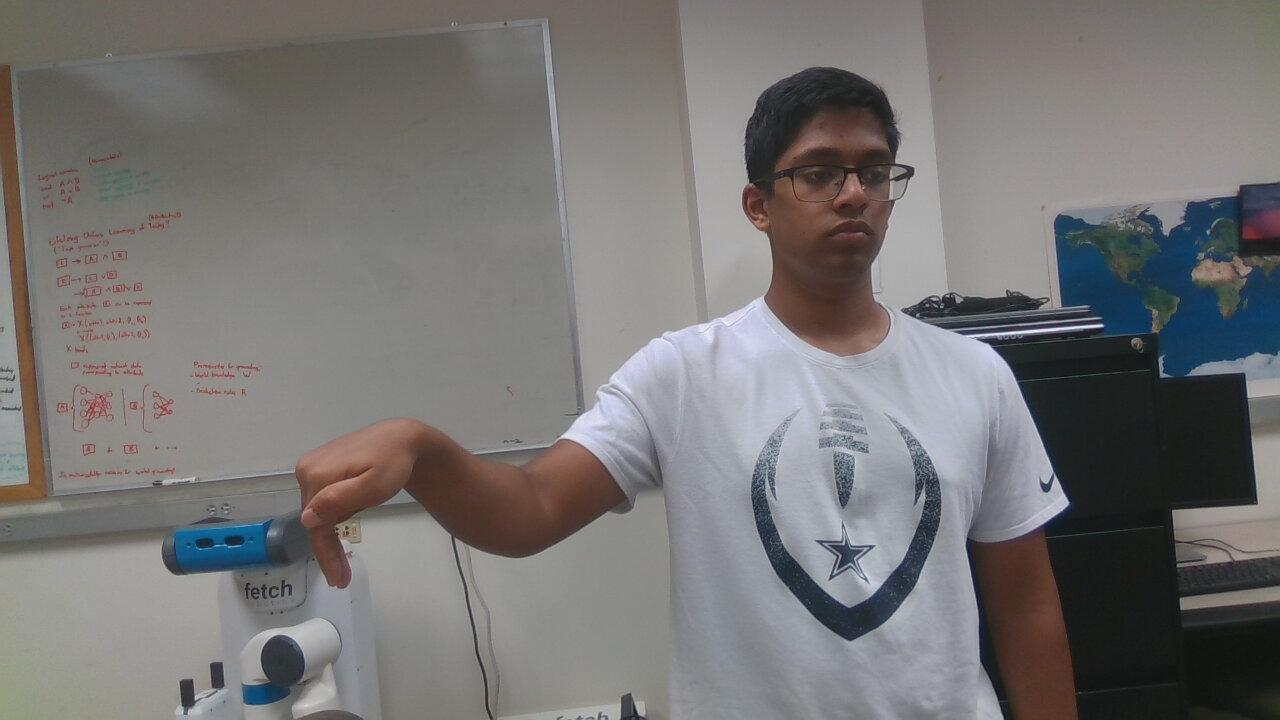hands: (264, 402, 452, 593)
